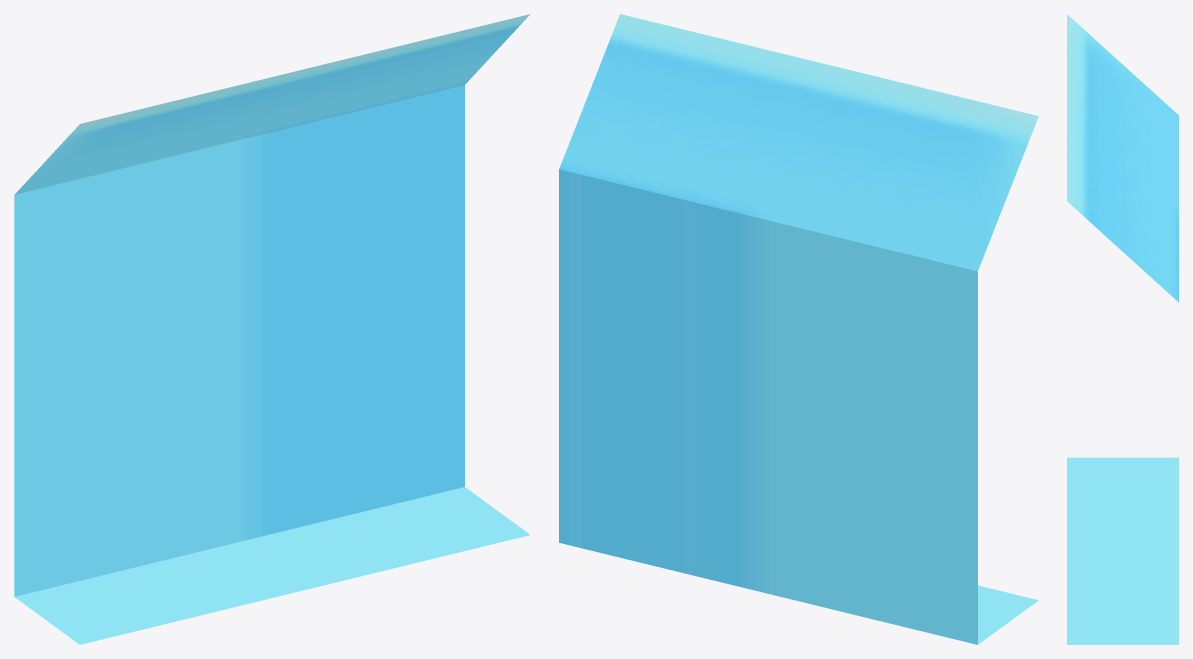
Rendered from Edge_Top.glb.
The picture shows the model from 3 angles, left to right: view 1: azimuth 30°, elevation 25°; view 2: azimuth 150°, elevation 25°; view 3: azimuth 270°, elevation 25°; orthographic projection. The views are drawn at different scales.
Parts seen in each view (by area): view 1: Edge_Top; view 2: Edge_Top; view 3: Edge_Top.
Part boxes in pixels (x1,y1,x2,y2): Edge_Top: [14, 14, 530, 644]; Edge_Top: [559, 14, 1038, 644]; Edge_Top: [1067, 14, 1178, 644].
Size of the model in its own units: 0.5427 by 0.5995 by 0.137.
1 material, 1 textured.
